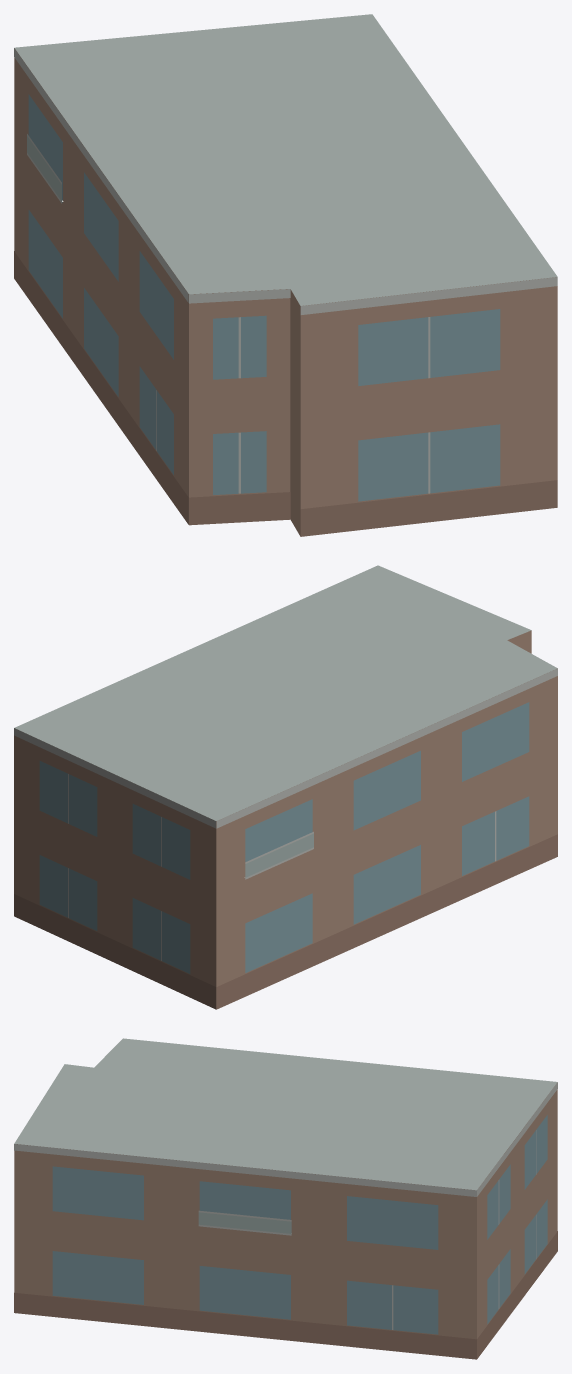
Rendered from survey-upis-32909171.glb.
3 views of the same model, one above another, from view 1: azimuth 30°, elevation 25°; view 2: azimuth 150°, elevation 25°; view 3: azimuth 270°, elevation 25° (orthographic). The views are drawn at different scales.
Visible parts, largest first — view 1: survey-upis-32909171.tmp; view 2: survey-upis-32909171.tmp; view 3: survey-upis-32909171.tmp.
Boxes of the visible parts, x1=… form: survey-upis-32909171.tmp: x1=14, y1=14, x2=557, y2=536; survey-upis-32909171.tmp: x1=14, y1=565, x2=557, y2=1009; survey-upis-32909171.tmp: x1=14, y1=1038, x2=557, y2=1359.
Bounding box in the file's own units: 11.76 × 6.1 × 17.77.
